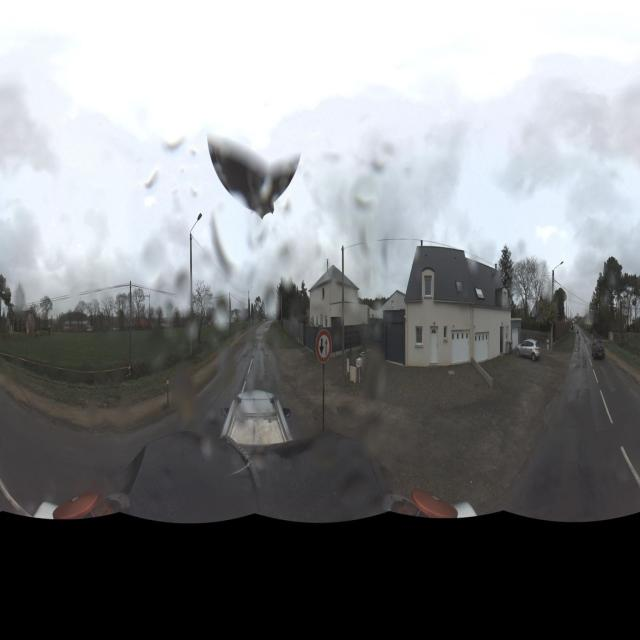car: (516, 338, 541, 361), (592, 341, 606, 360)
